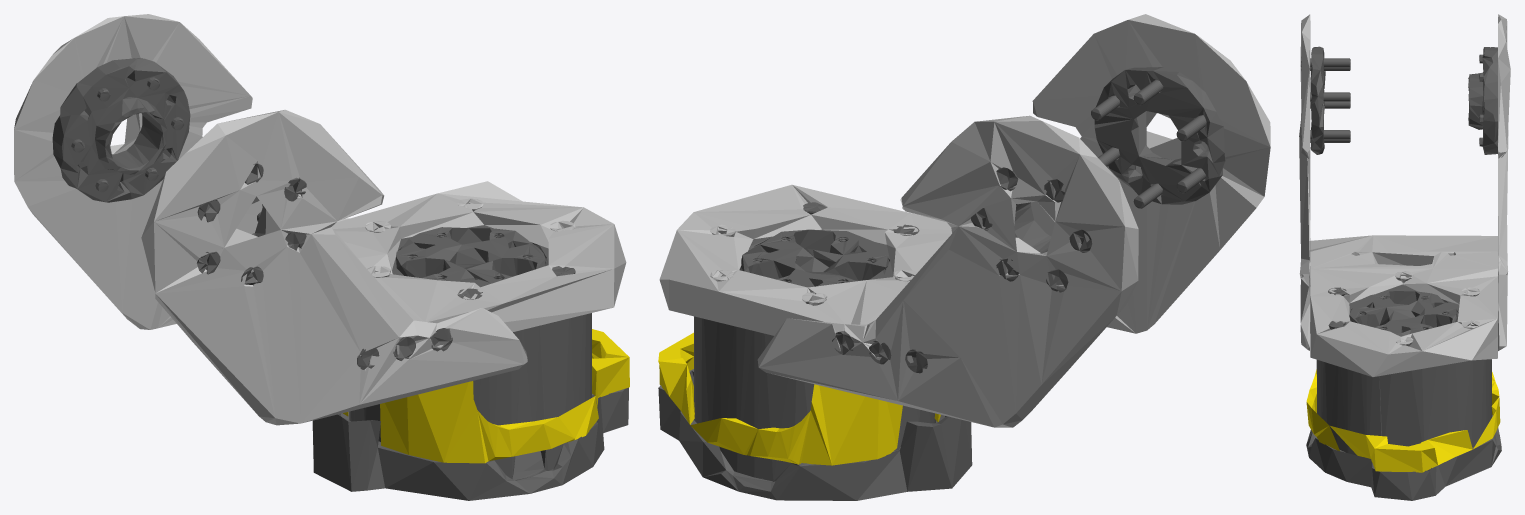
The picture shows the model from 3 angles, left to right: view 1: azimuth 30°, elevation 25°; view 2: azimuth 150°, elevation 25°; view 3: azimuth 270°, elevation 25°; orthographic projection. The views are drawn at different scales.
Parts seen in each view (by area): view 1: colored_link4_anodized_grey, colored_link4_matte_black, colored_link4_seeed_yellow, colored_link4_hardware_black; view 2: colored_link4_anodized_grey, colored_link4_matte_black, colored_link4_seeed_yellow, colored_link4_hardware_black; view 3: colored_link4_anodized_grey, colored_link4_matte_black, colored_link4_seeed_yellow, colored_link4_hardware_black.
Part boxes in pixels (x1,y1,x2,y2): colored_link4_anodized_grey: (14, 14, 626, 425); colored_link4_matte_black: (52, 58, 628, 500); colored_link4_seeed_yellow: (343, 329, 629, 463); colored_link4_hardware_black: (71, 77, 575, 369); colored_link4_anodized_grey: (659, 14, 1270, 427); colored_link4_matte_black: (658, 67, 1225, 500); colored_link4_seeed_yellow: (658, 332, 940, 465); colored_link4_hardware_black: (803, 79, 1206, 373); colored_link4_anodized_grey: (1299, 14, 1510, 376); colored_link4_matte_black: (1306, 46, 1501, 500); colored_link4_seeed_yellow: (1306, 369, 1500, 472); colored_link4_hardware_black: (1301, 54, 1506, 329).
Bounding box in the file's own units: 0.147 × 0.1162 × 0.0686.
